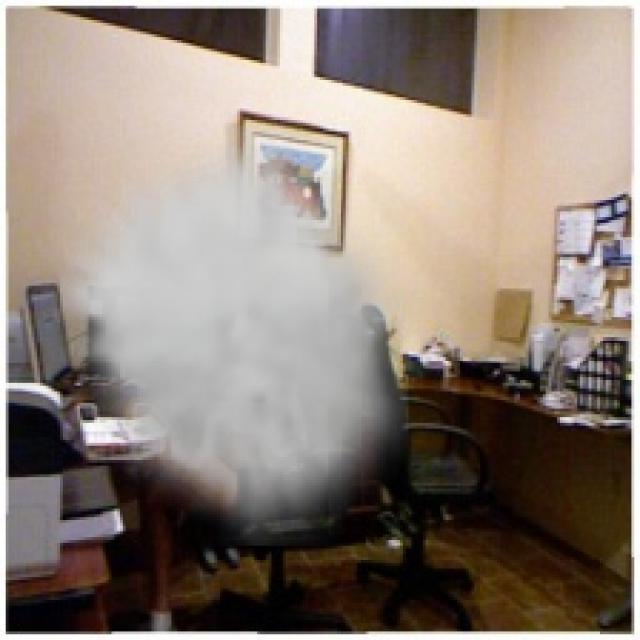Smoke: (60, 125, 409, 546)
